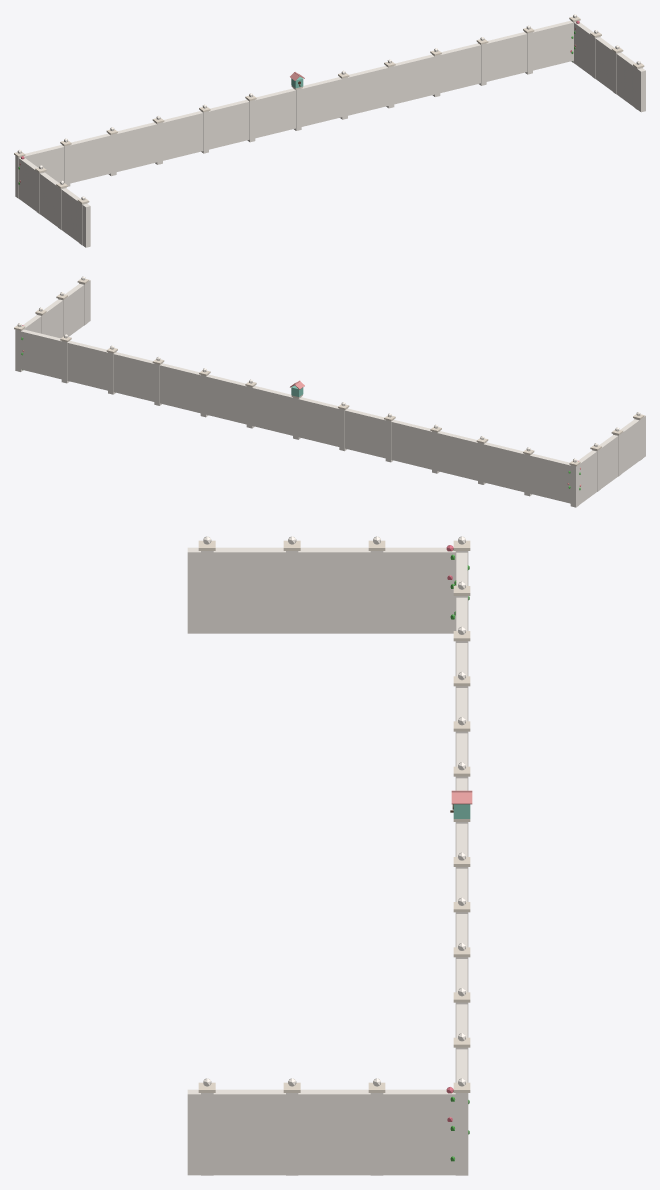
Rendered from CatCafe_Plot_YardFence.glb.
3 renders of one model, top to bottom at view 1: azimuth 30°, elevation 25°; view 2: azimuth 150°, elevation 25°; view 3: azimuth 270°, elevation 25°, orthographic. The views are drawn at different scales.
Visible parts, largest first — view 1: CatCafe_Plot_YardFence_Barrier, CatCafe_Plot_YardFence; view 2: CatCafe_Plot_YardFence_Barrier, CatCafe_Plot_YardFence; view 3: CatCafe_Plot_YardFence_Barrier, CatCafe_Plot_YardFence.
Part boxes in pixels (x1,y1,x2,y2): CatCafe_Plot_YardFence_Barrier: (19, 20, 645, 247); CatCafe_Plot_YardFence: (14, 14, 644, 245); CatCafe_Plot_YardFence_Barrier: (21, 280, 645, 504); CatCafe_Plot_YardFence: (14, 276, 644, 507); CatCafe_Plot_YardFence_Barrier: (187, 547, 467, 1175); CatCafe_Plot_YardFence: (198, 536, 472, 1175).
Bounding box in the file's own units: 46.4 × 4.38 × 10.17.
1 material, 1 textured.
